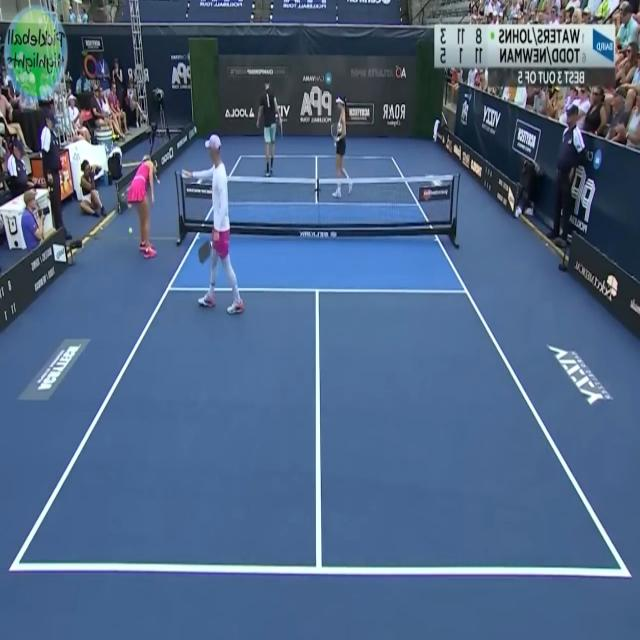Pickleball: (128, 225, 134, 237)
